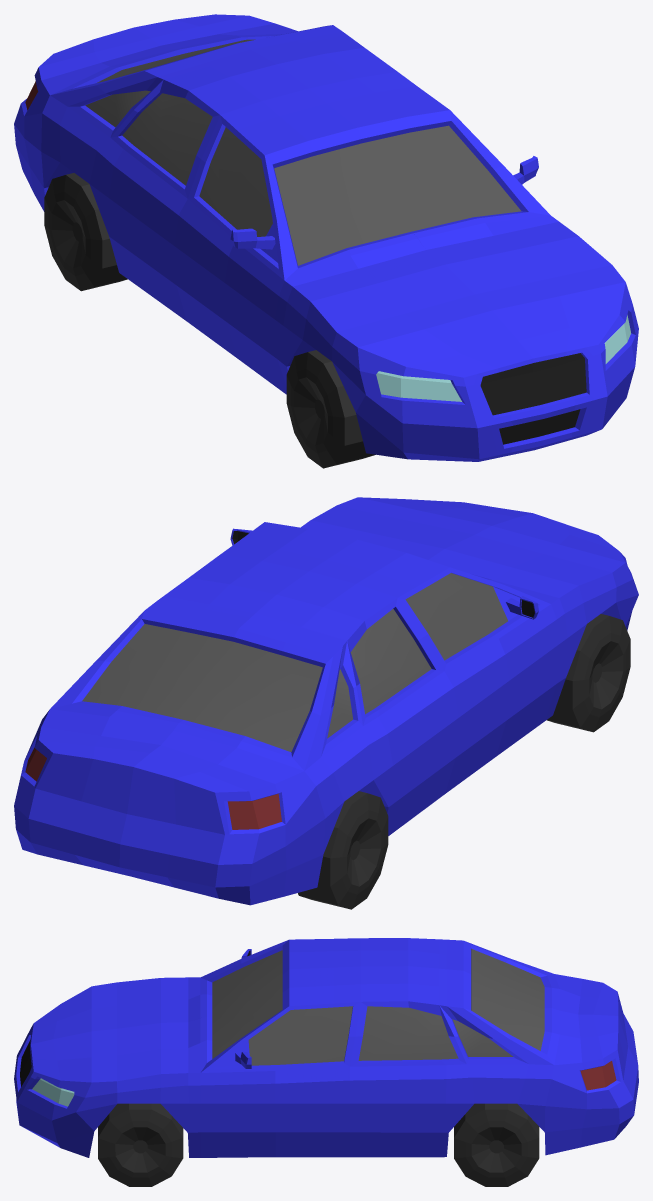
File: 4blue.fbx
The picture shows the model from 3 angles, top to bottom: view 1: azimuth 30°, elevation 25°; view 2: azimuth 150°, elevation 25°; view 3: azimuth 270°, elevation 25°; orthographic projection. The views are drawn at different scales.
Visible parts, largest first — view 1: Cube; view 2: Cube; view 3: Cube.
Part boxes in pixels (x1=…): Cube: x1=14, y1=14, x2=638, y2=468; Cube: x1=14, y1=497, x2=638, y2=909; Cube: x1=14, y1=938, x2=638, y2=1186.
Bounding box in the file's own units: 131 × 94.78 × 317.
